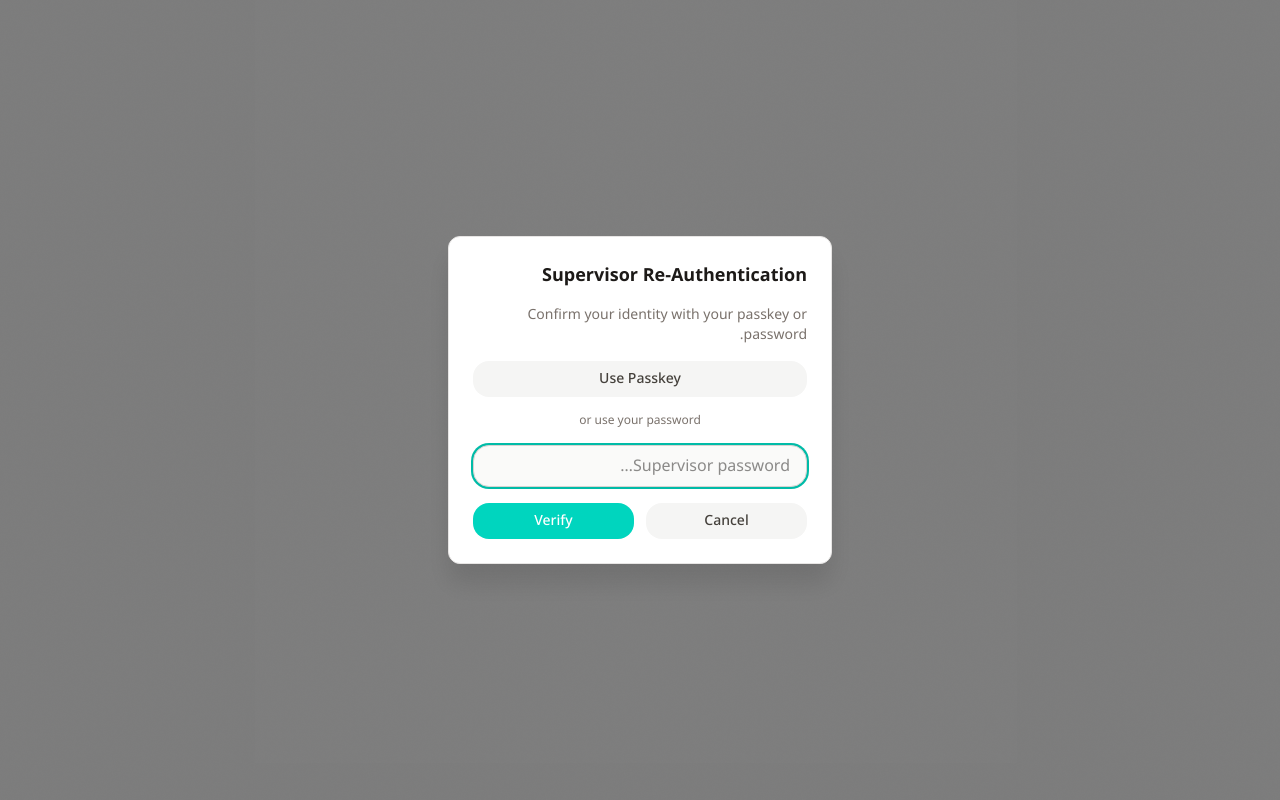
Test: SupervisorReAuthModal › shows a failed passkey re-authentication in the existing error area and does not resume approval
Click the button "Use Passkey".
click(640, 379)  # box [473,361,807,397]
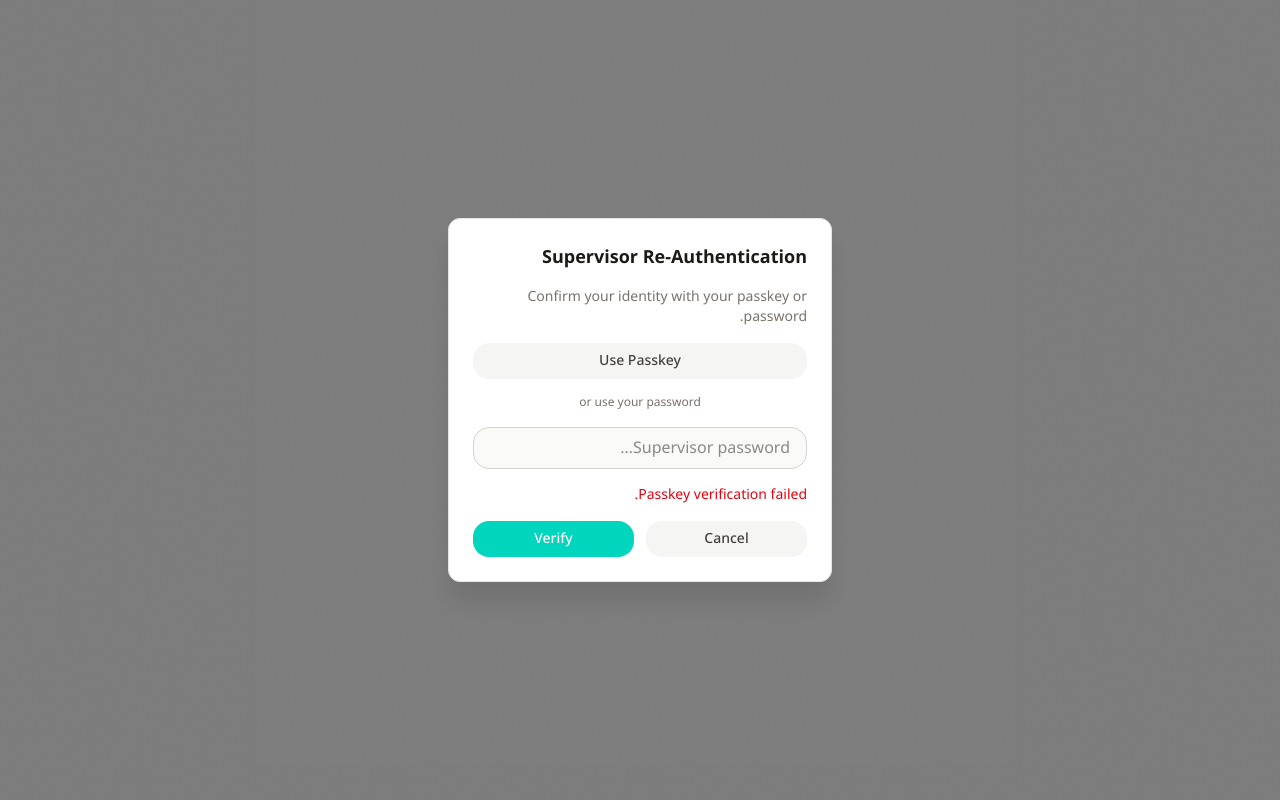
Check: the text "Passkey verification failed." is shown, box [634,480,807,509]
